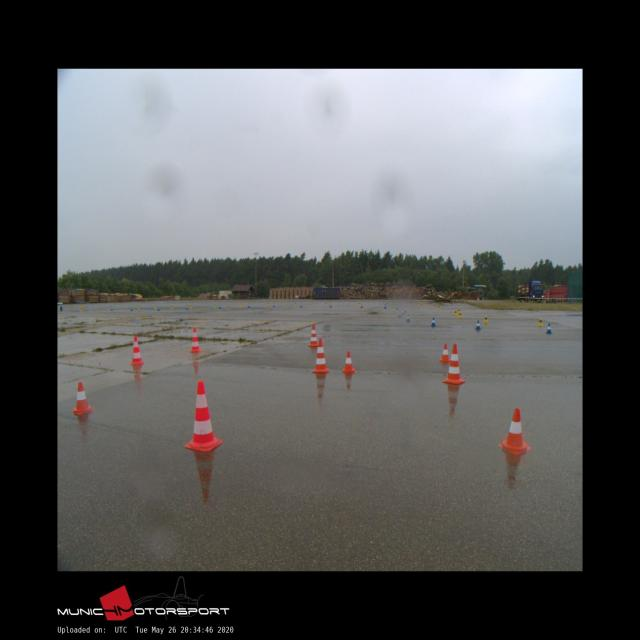blue_cone: (546, 324, 552, 334), (475, 320, 481, 330), (431, 317, 436, 326), (406, 314, 410, 322), (398, 311, 402, 317)
large_orange_cone: (184, 380, 222, 451), (442, 344, 464, 384), (313, 339, 328, 372), (130, 335, 144, 364), (190, 327, 201, 351), (308, 324, 319, 346)
orange_cone: (498, 408, 530, 453), (70, 383, 95, 414), (341, 351, 356, 372), (439, 345, 451, 361)
yellow_cone: (538, 317, 543, 326), (484, 314, 488, 322), (458, 311, 462, 318), (454, 309, 458, 315)
